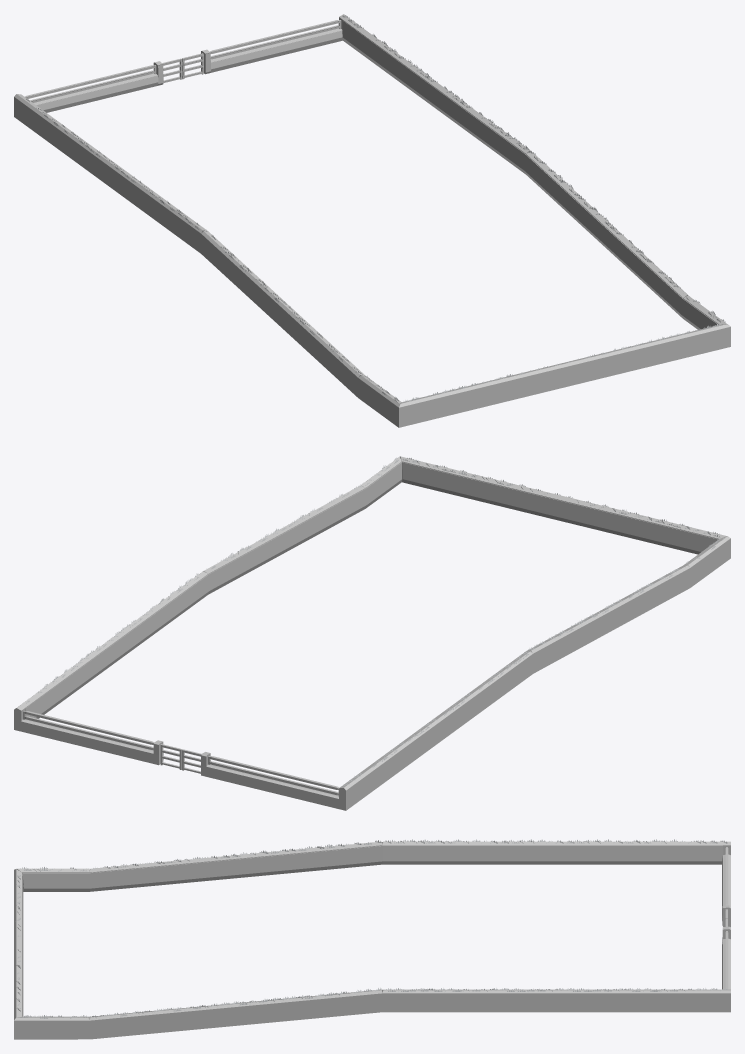
File: Pagar.fbx
3 renders of one model, top to bottom at view 1: azimuth 30°, elevation 25°; view 2: azimuth 150°, elevation 25°; view 3: azimuth 270°, elevation 25°, orthographic. The views are drawn at different scales.
Visible parts, largest first — view 1: Pagar; view 2: Pagar; view 3: Pagar.
Part boxes in pixels (x1=…): Pagar: x1=14, y1=14, x2=730, y2=427; Pagar: x1=14, y1=456, x2=730, y2=810; Pagar: x1=14, y1=839, x2=730, y2=1039.
Size of the model in its own units: 170 by 26.5 by 342.
